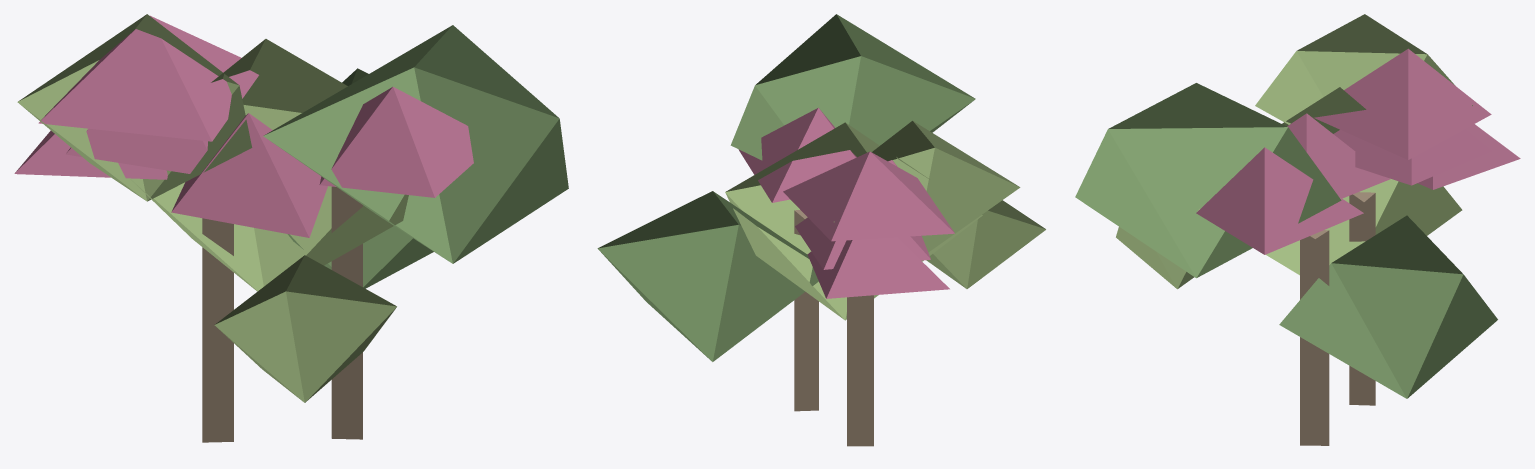
Rendered from shrub.sub.mountain_bush__bloom.glb.
3 renders of one model, left to right at view 1: azimuth 30°, elevation 25°; view 2: azimuth 150°, elevation 25°; view 3: azimuth 270°, elevation 25°, orthographic. The views are drawn at different scales.
Visible parts, largest first — view 1: shrub.sub.mountain_bush__bloom; view 2: shrub.sub.mountain_bush__bloom; view 3: shrub.sub.mountain_bush__bloom.
Boxes of the visible parts, x1,y1,x2,y2 form: shrub.sub.mountain_bush__bloom: (14,14,568,442); shrub.sub.mountain_bush__bloom: (597,14,1045,446); shrub.sub.mountain_bush__bloom: (1075,14,1520,445).
Bounding box in the file's own units: 2.14 × 1.95 × 2.08.
